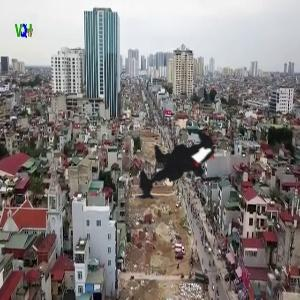drone: (110, 103, 253, 246)
